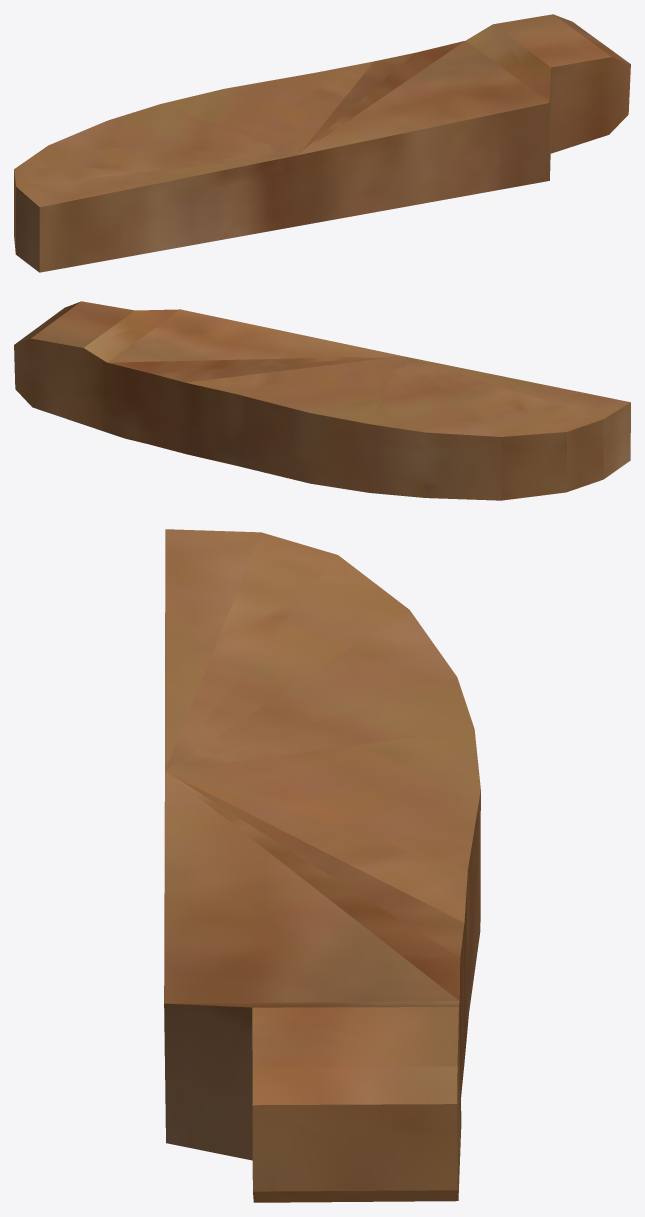
Rendered from car_024.glb.
The picture shows the model from 3 angles, top to bottom: view 1: azimuth 30°, elevation 25°; view 2: azimuth 150°, elevation 25°; view 3: azimuth 270°, elevation 25°; orthographic projection. The views are drawn at different scales.
Parts seen in each view (by area): view 1: car.024; view 2: car.024; view 3: car.024.
Part boxes in pixels (box(x1,y1,x2,y2)): car.024: box(14, 14, 630, 272); car.024: box(14, 301, 630, 500); car.024: box(164, 529, 480, 1202).
Bounding box in the file's own units: 1.78 × 0.274 × 0.4485.
Materials: 1 (1 with a texture image).
